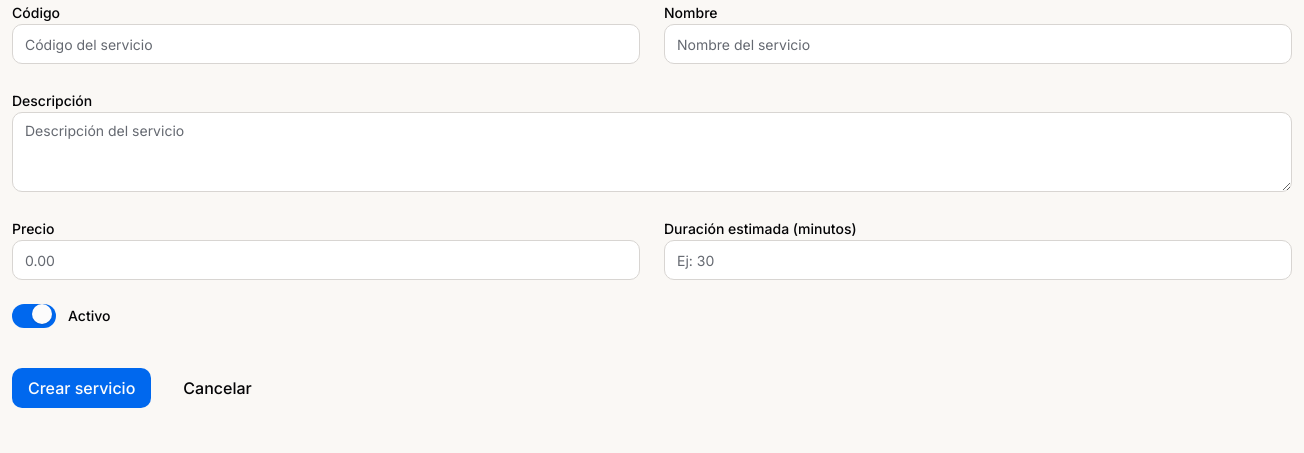
ServiceForm › shows validation error for non-integer estimatedDuration
Type "SRV-001" into the field labelled "Código" at (326, 44), box [12,24,640,64]
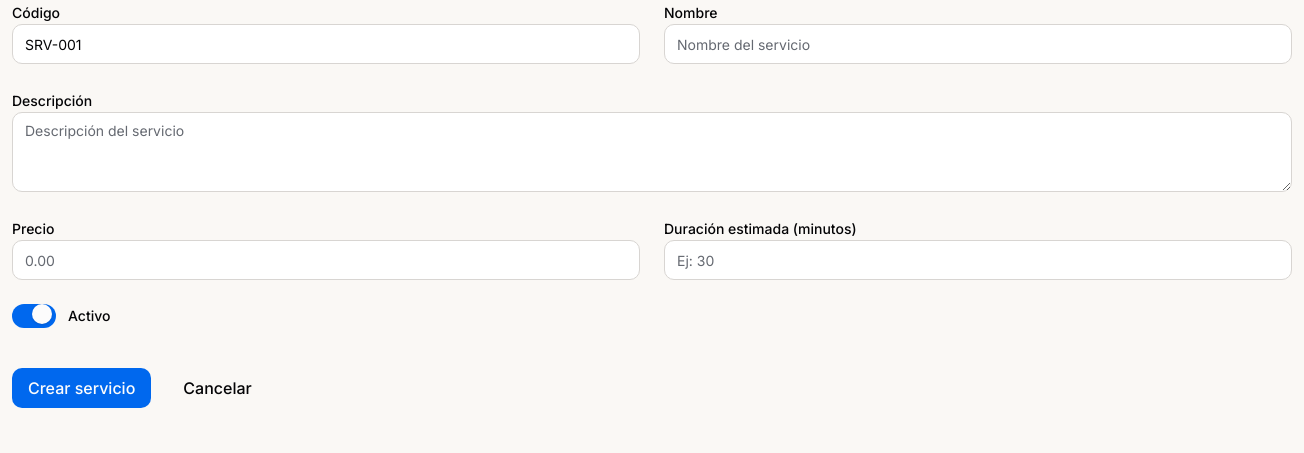
Type "Test" into the field labelled "Nombre" at (978, 44), box [664,24,1292,64]
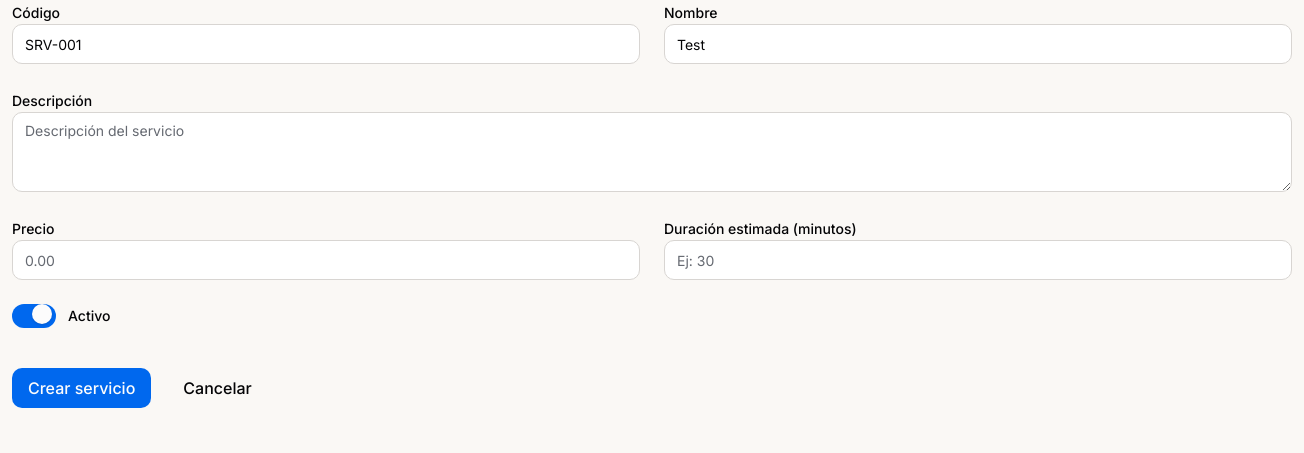
Type "100" into the number field labelled "Precio" at (326, 260), box [12,240,640,280]
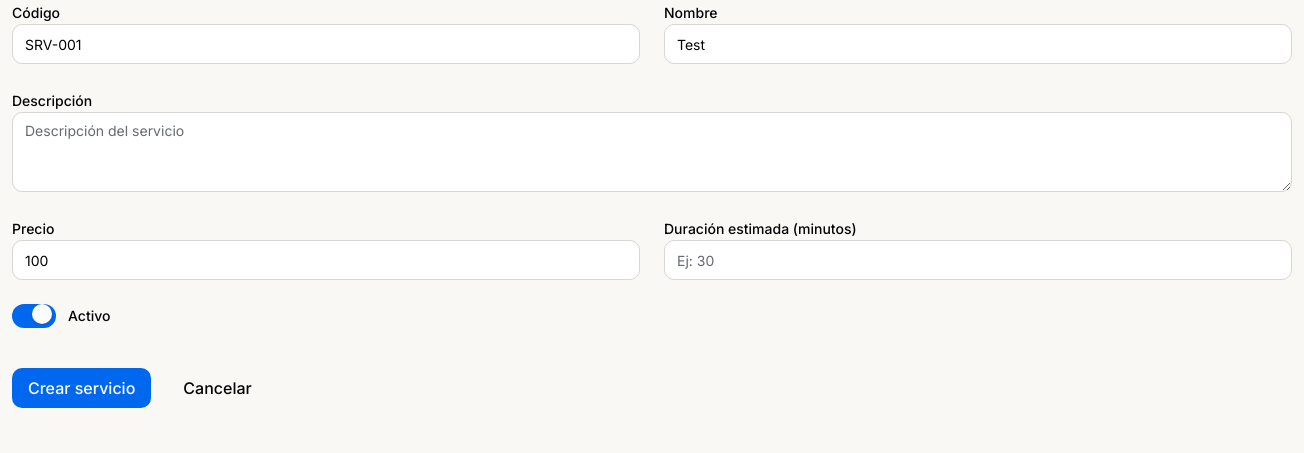
Type "30.5" into the number field labelled "Duración estimada (minutos)" at (978, 260), box [664,240,1292,280]
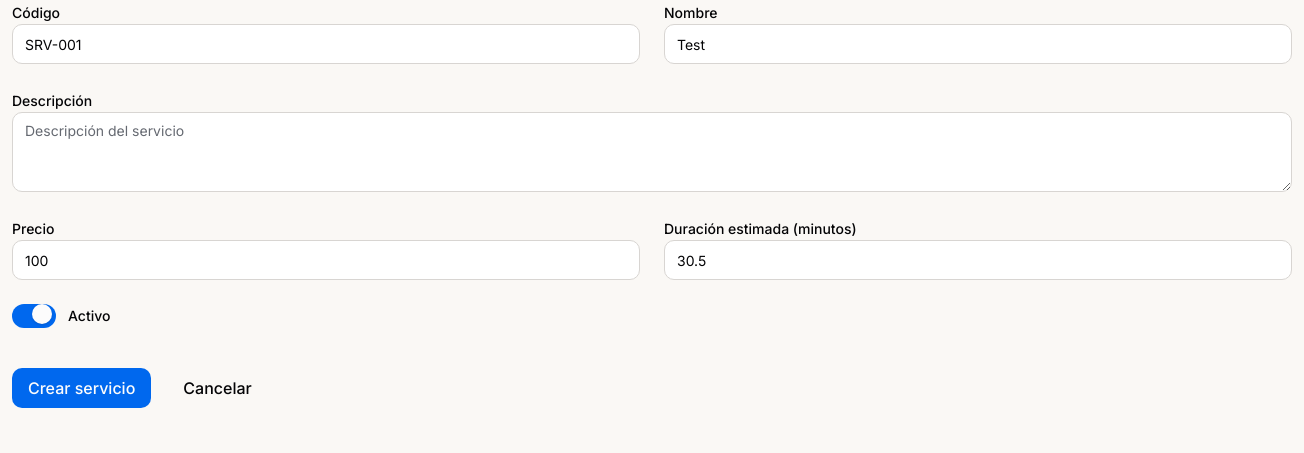
Click the button "Crear servicio" at (82, 388), box [12,368,151,408]
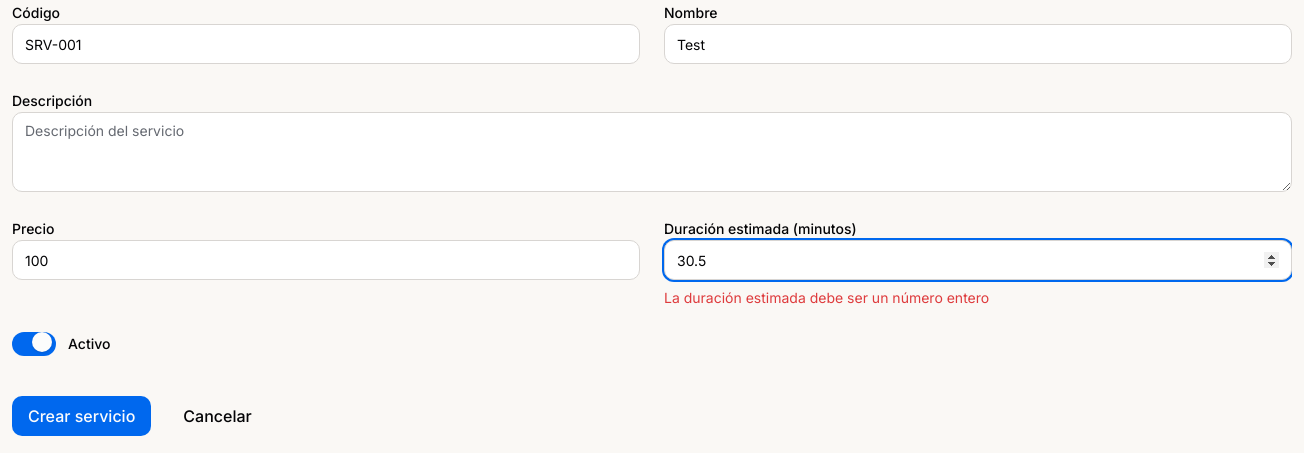
Check: the text "La duración estimada debe ser un número entero" is shown, box [664,289,989,306]
